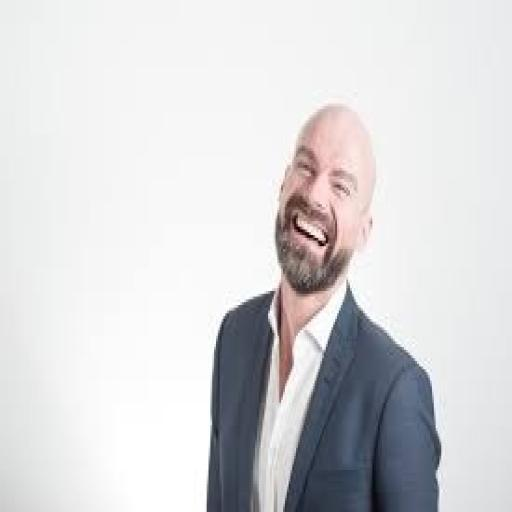laughing: (195, 87, 447, 506)
